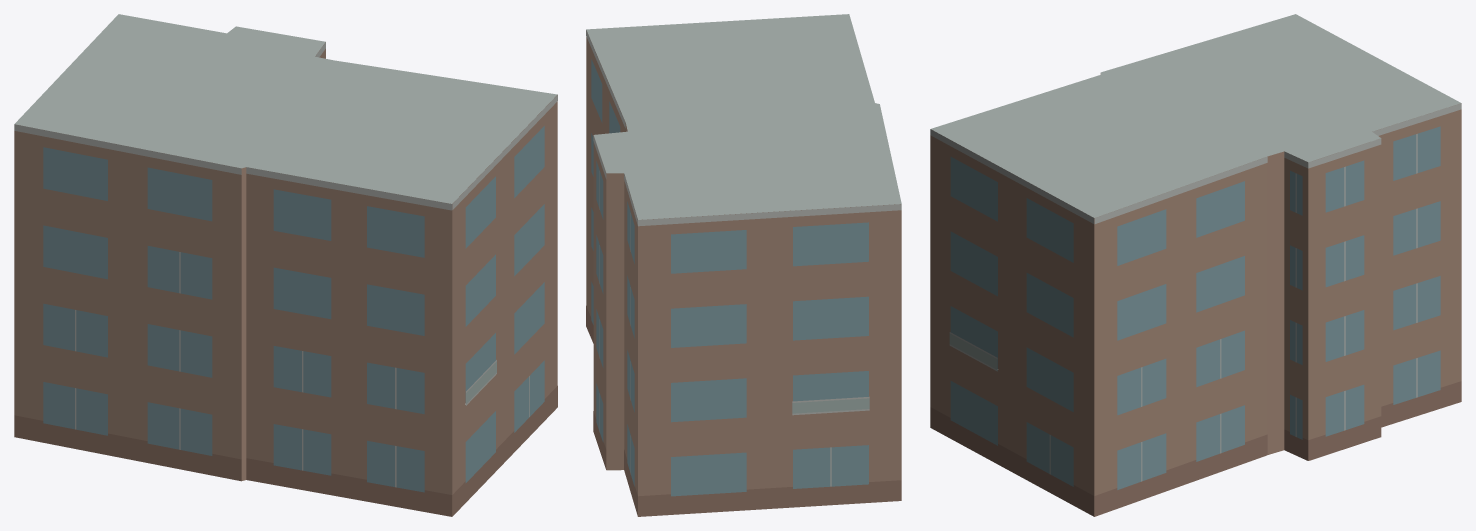
The model's file is survey-upis-32536387.glb.
3 renders of one model, left to right at view 1: azimuth 30°, elevation 25°; view 2: azimuth 150°, elevation 25°; view 3: azimuth 270°, elevation 25°, orthographic. The views are drawn at different scales.
Parts seen in each view (by area): view 1: survey-upis-32536387.tmp; view 2: survey-upis-32536387.tmp; view 3: survey-upis-32536387.tmp.
Boxes of the visible parts, <box> form: survey-upis-32536387.tmp: <box>14,14,557,516</box>; survey-upis-32536387.tmp: <box>586,14,901,516</box>; survey-upis-32536387.tmp: <box>930,14,1461,516</box>.
Bounding box in the file's own units: 17 × 11.6 × 18.7.
